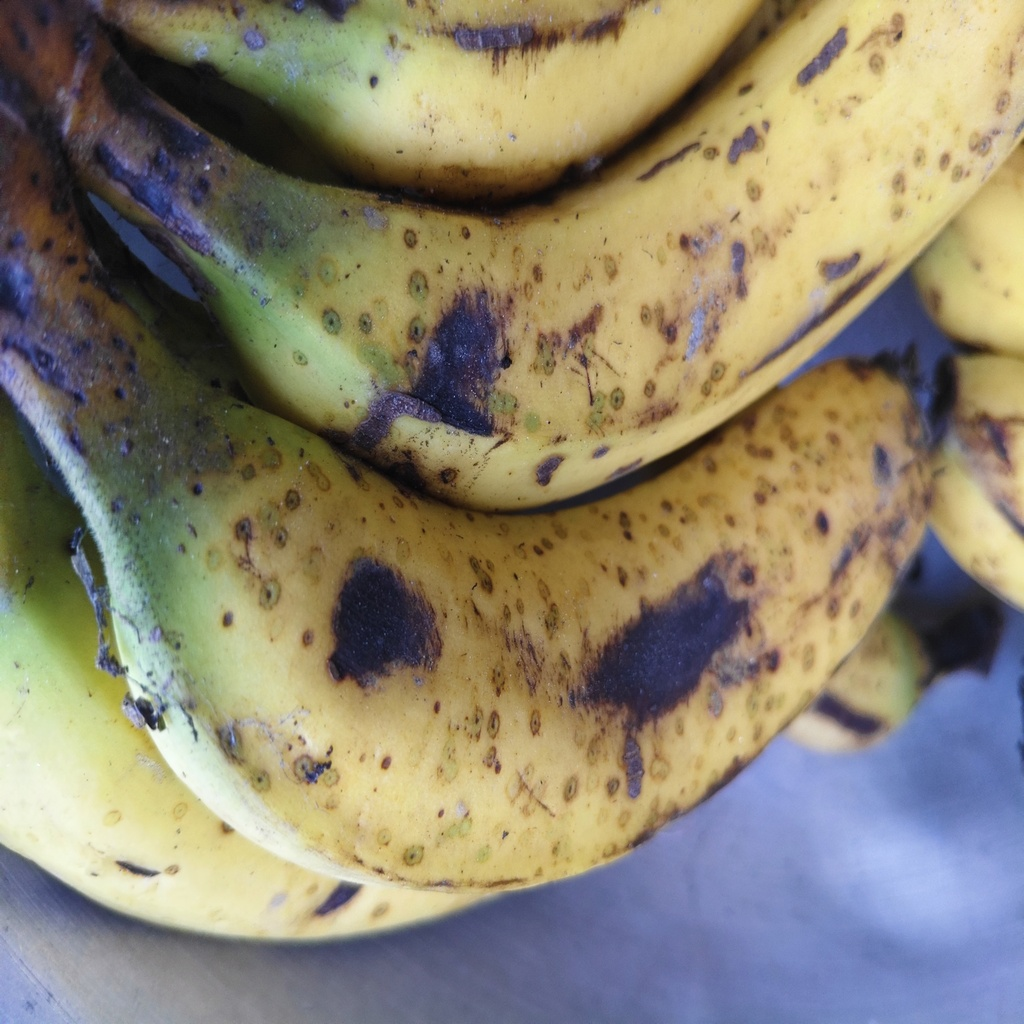unhealthy: (135, 342, 951, 895), (190, 1, 1023, 507)
